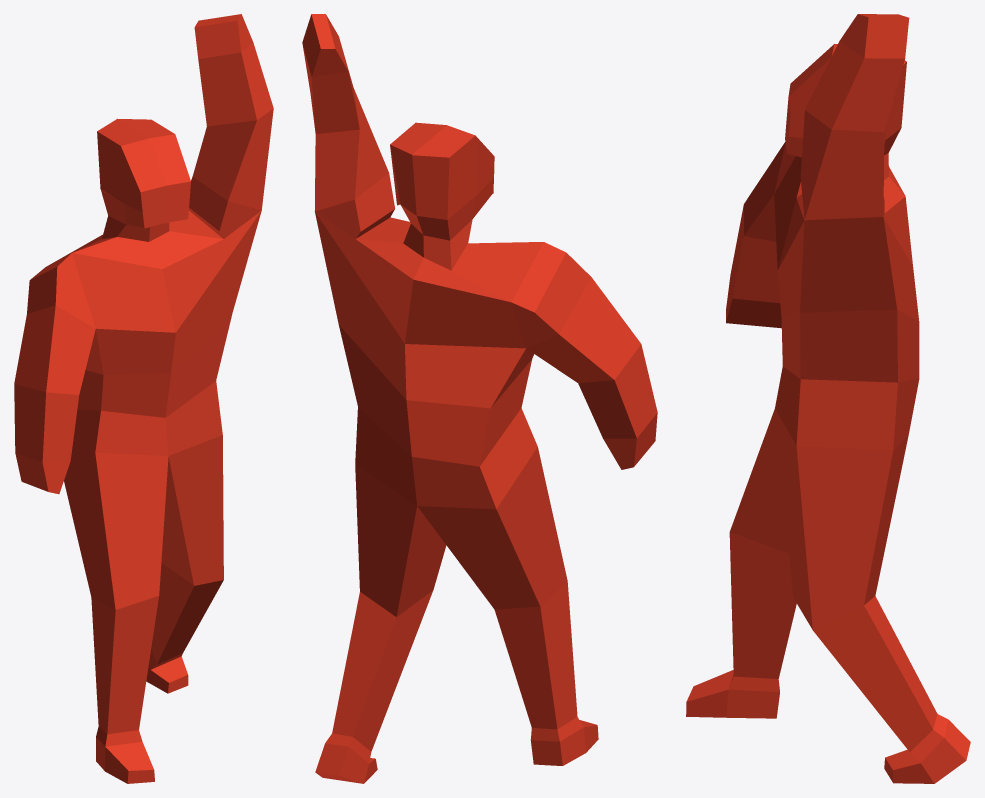
File: Player_Victory.fbx
3 views of the same model, side by side, from view 1: azimuth 30°, elevation 25°; view 2: azimuth 150°, elevation 25°; view 3: azimuth 270°, elevation 25° (orthographic). The views are drawn at different scales.
Visible parts, largest first — view 1: Person; view 2: Person; view 3: Person.
Part boxes in pixels (x1,y1,x2,y2): Person: (14,14,273,783); Person: (302,14,657,783); Person: (686,14,970,783).
Size of the model in its own units: 413 by 954 by 309.
